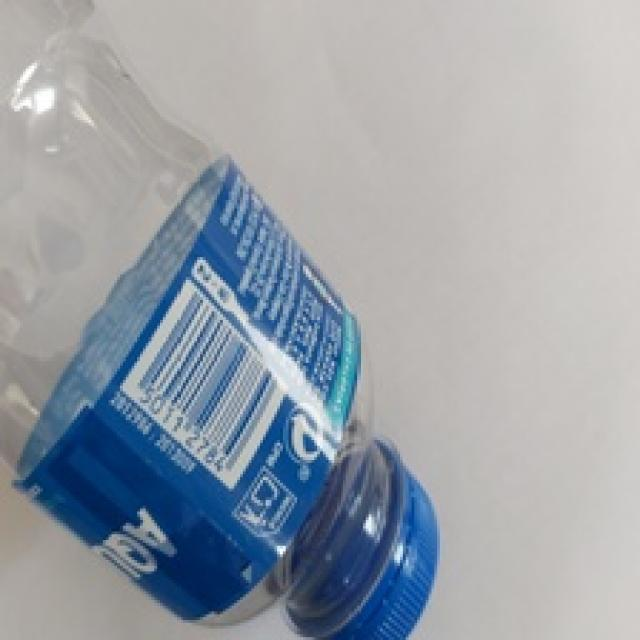Plastic: (0, 0, 444, 638)
